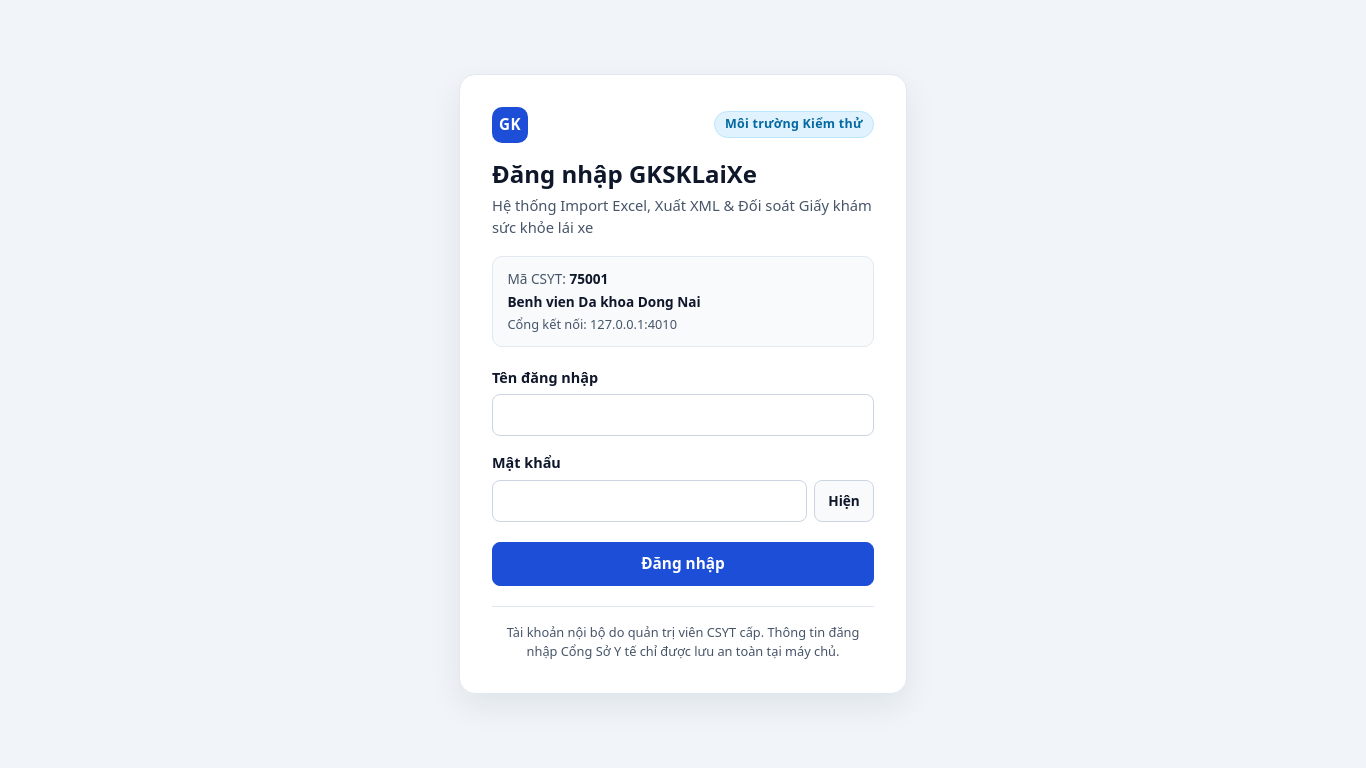
Test case: S13 — EnvBanner, LoginPage và khung ứng dụng (App Shell) › 2. Luồng đăng nhập sai báo lỗi rõ ràng, đăng nhập đúng vào trang Danh sách & Đối soát với đúng 2 mục menu (không có Nhập liệu)
Expected: the heading "Đăng nhập GKSKLaiXe" is shown, [492,157,757,190]
Expected: the element with test id "login-facility-info" shows "75001", [569,269,608,288]
Type "admin" into the field labelled "Tên đăng nhập". click: [683, 415]
box: [492,394,874,436]
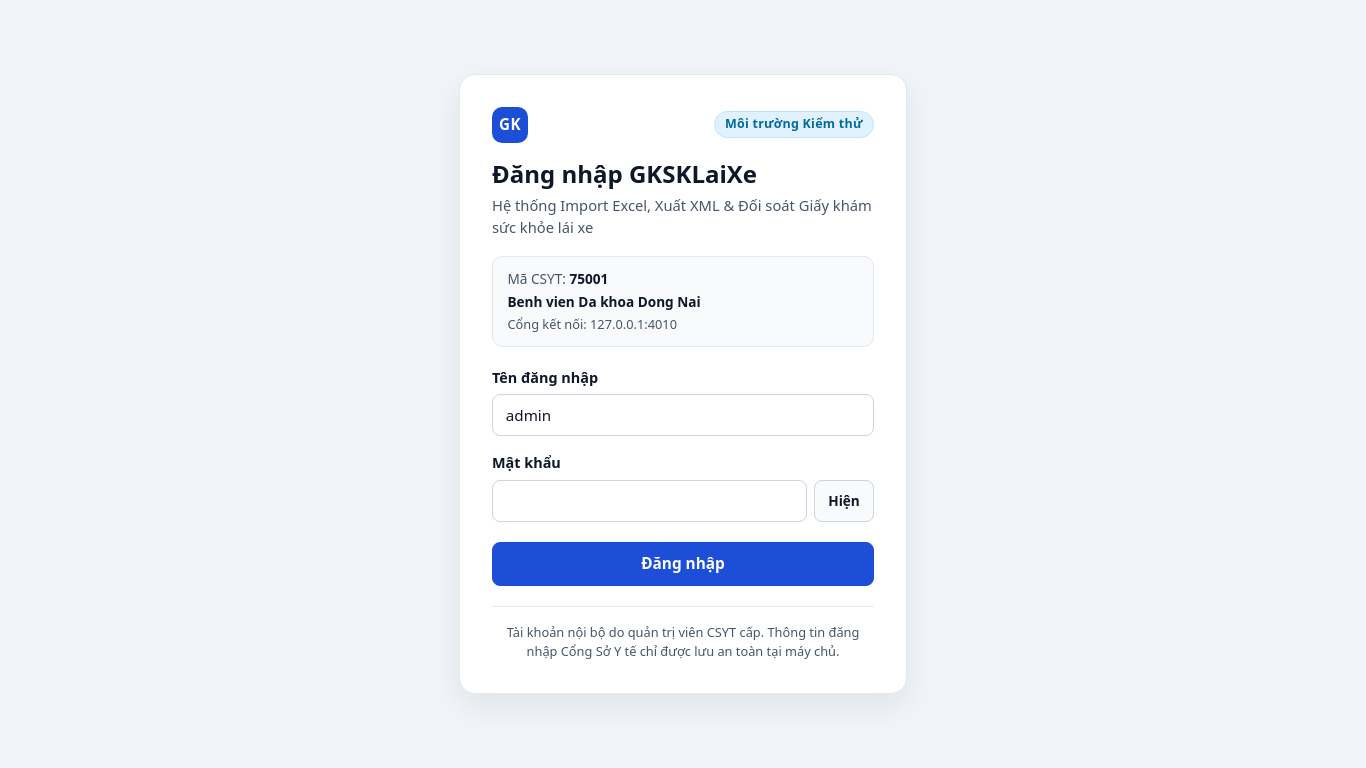
Type "wrong-pass" into the password field labelled "Mật khẩu". click: [649, 501]
box: [492,480,807,522]
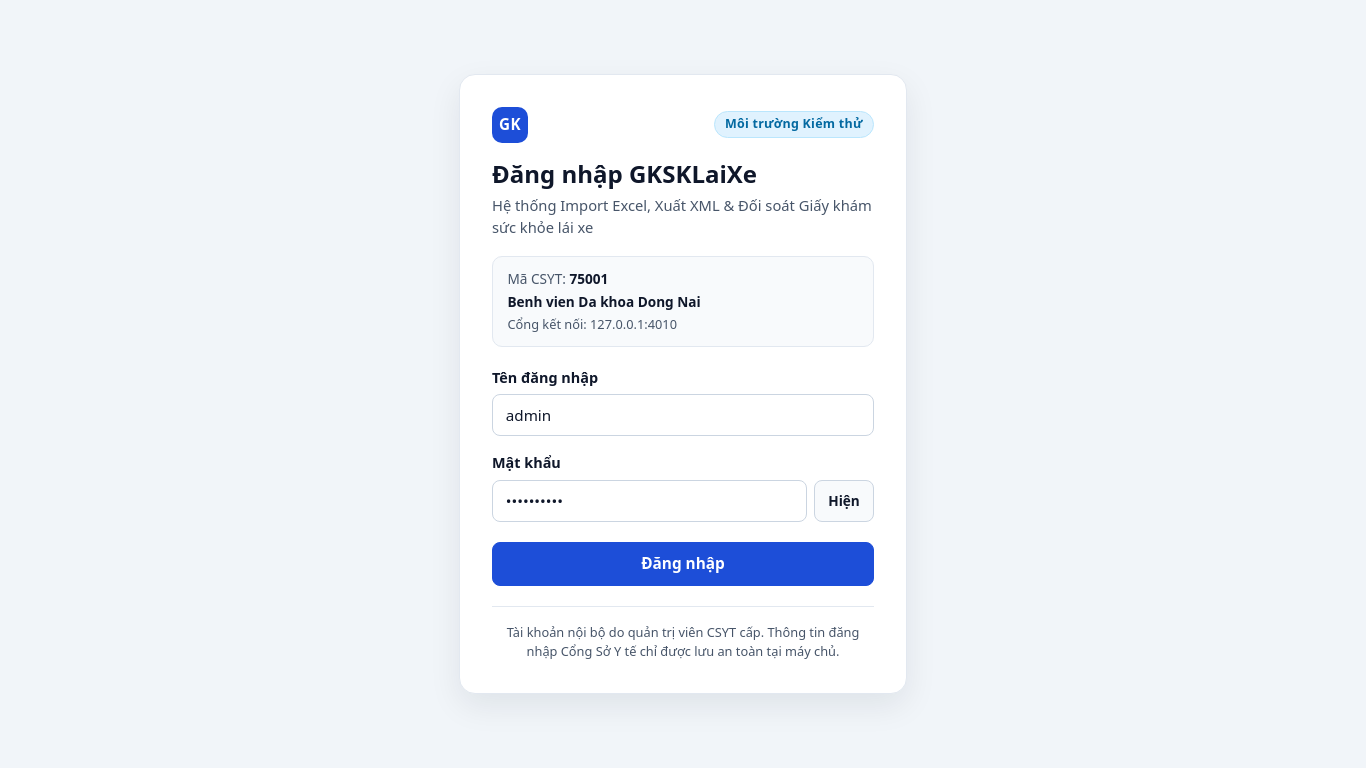
Click the button "Đăng nhập". click: [683, 564]
box: [492,542,874,586]
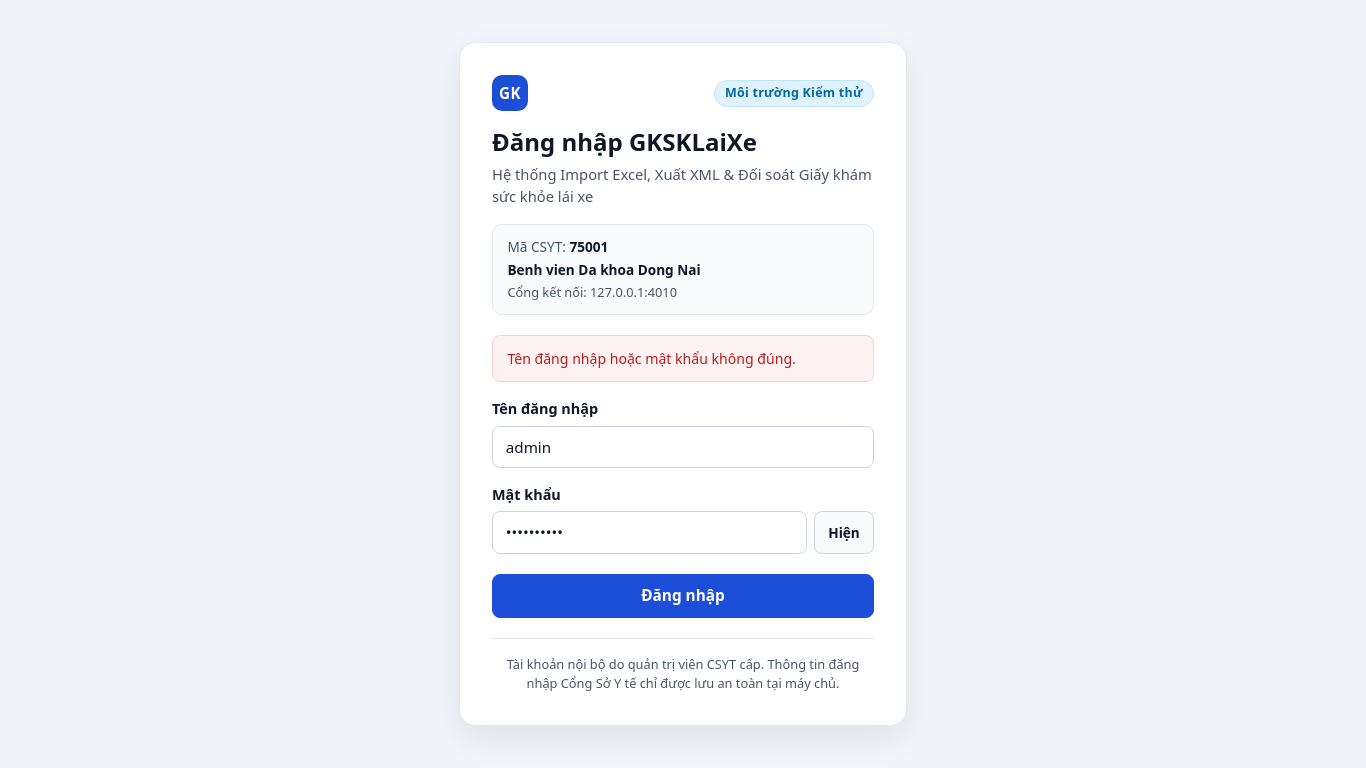
Expected: the message with test id "login-error" reads "Tên đăng nhập hoặc mật khẩu không đúng.", [507,349,796,368]
Type "correct-pass" into the password field labelled "Mật khẩu". click: [649, 532]
box: [492,511,807,554]
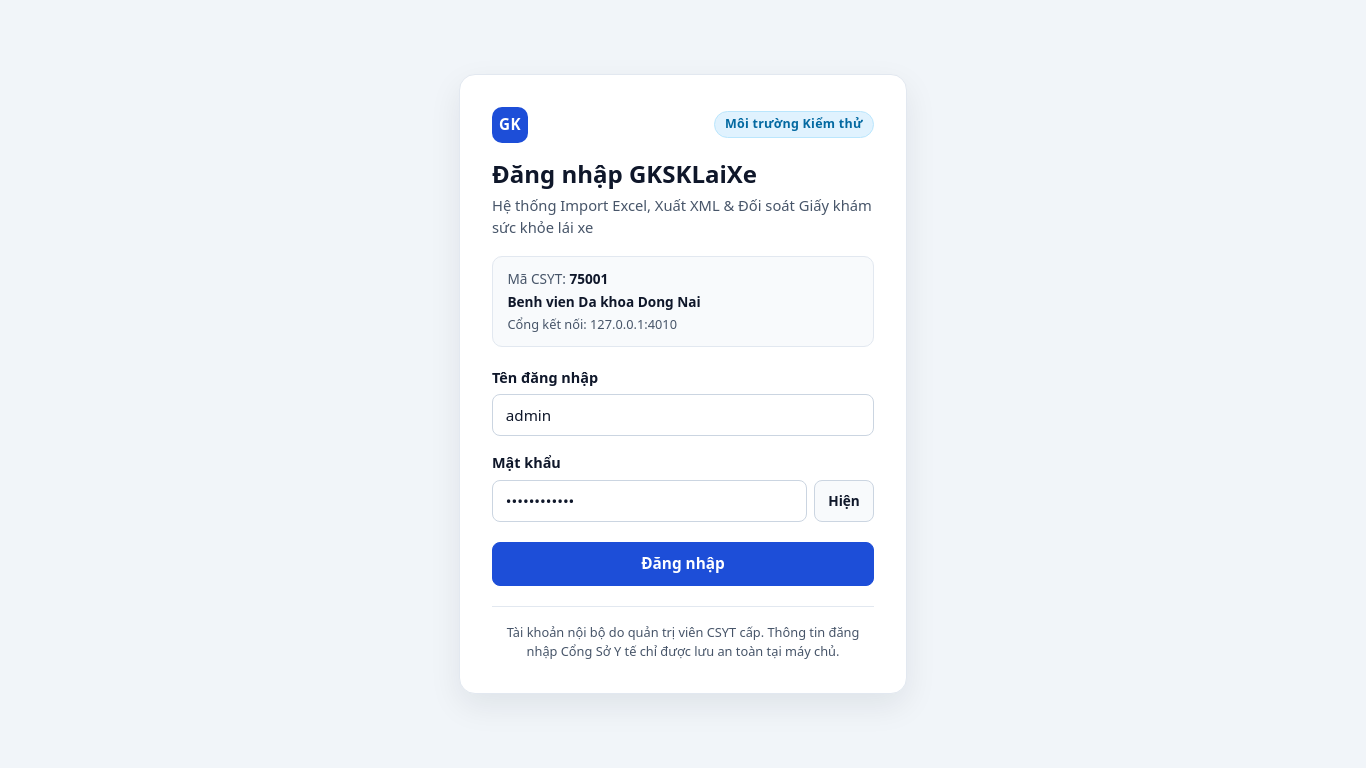
Click the button "Đăng nhập". click: [683, 564]
box: [492,542,874,586]
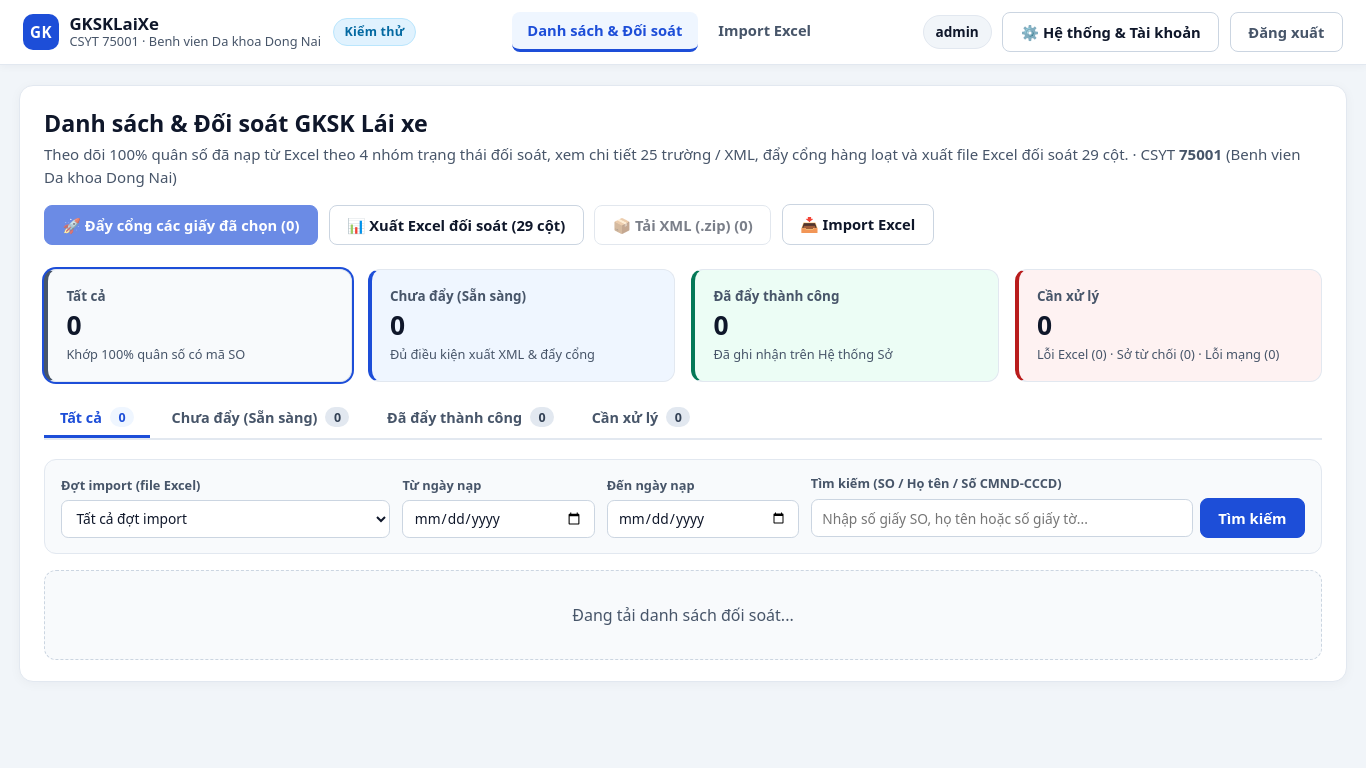
Expected: the heading "Danh sách & Đối soát GKSK Lái xe" is shown, [44,107,428,139]
Expected: the text with test id "header-facility-info" shows "75001", [69,32,321,50]
Expected: the text with test id "current-username" reads "admin", [936,22,979,41]
# Chuyển sang trang Import Excel
Click the link "Import Excel". click: [765, 30]
box: [718,20,811,40]
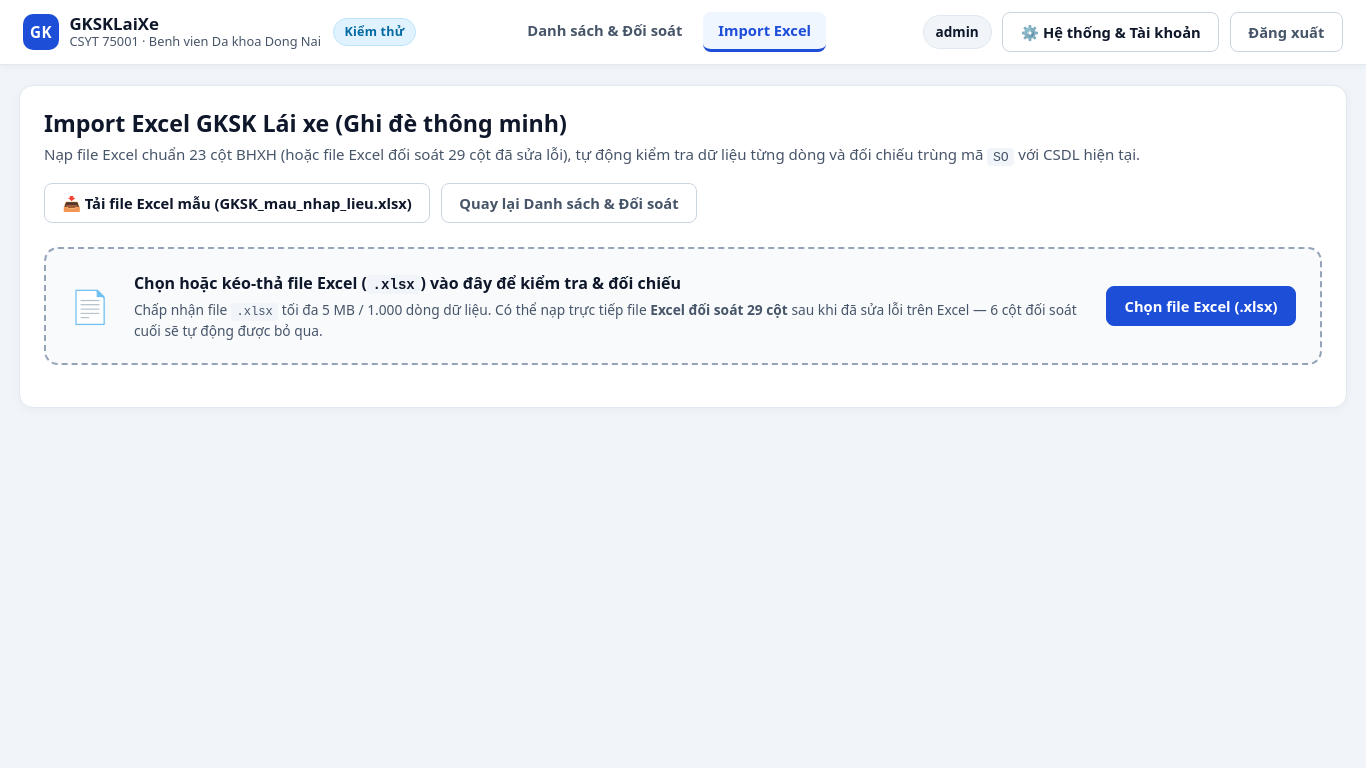
Expected: the heading "Import Excel GKSK Lái xe (Ghi đè thông minh)" is shown, [44,107,567,139]
